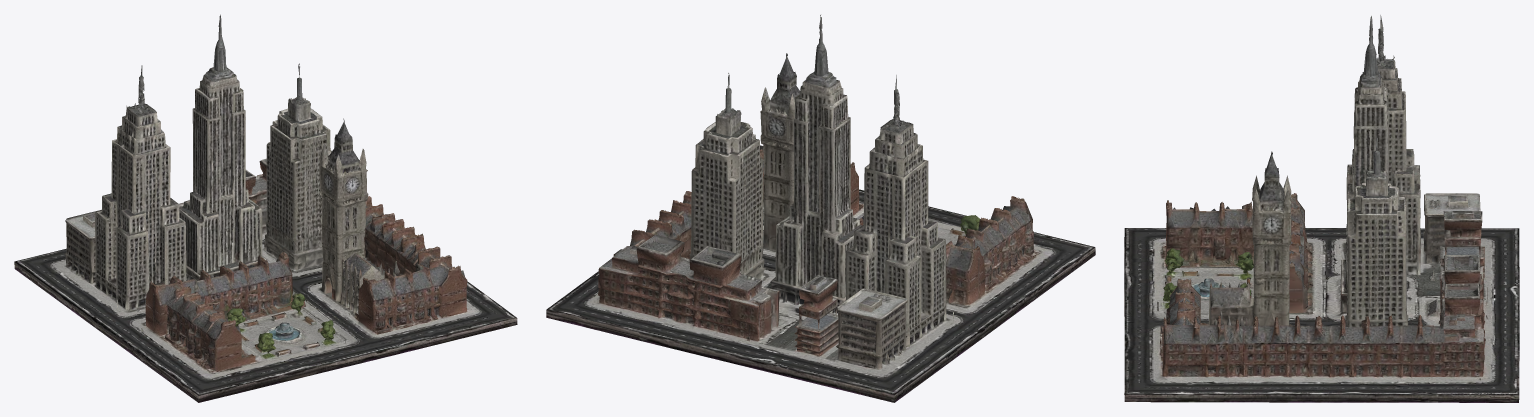
Rendered from fusion_ny_london_far.glb.
The picture shows the model from 3 angles, left to right: view 1: azimuth 30°, elevation 25°; view 2: azimuth 150°, elevation 25°; view 3: azimuth 270°, elevation 25°; orthographic projection. The views are drawn at different scales.
Visible parts, largest first — view 1: fusion_ny_london; view 2: fusion_ny_london; view 3: fusion_ny_london.
Part boxes in pixels (left/top/right/bottom): fusion_ny_london: left=14, top=14, right=517, bottom=402; fusion_ny_london: left=546, top=15, right=1095, bottom=402; fusion_ny_london: left=1124, top=15, right=1519, bottom=402.
Size of the model in its own units: 1.9 by 1.55 by 1.9.
Materials: 1 (1 with a texture image).
